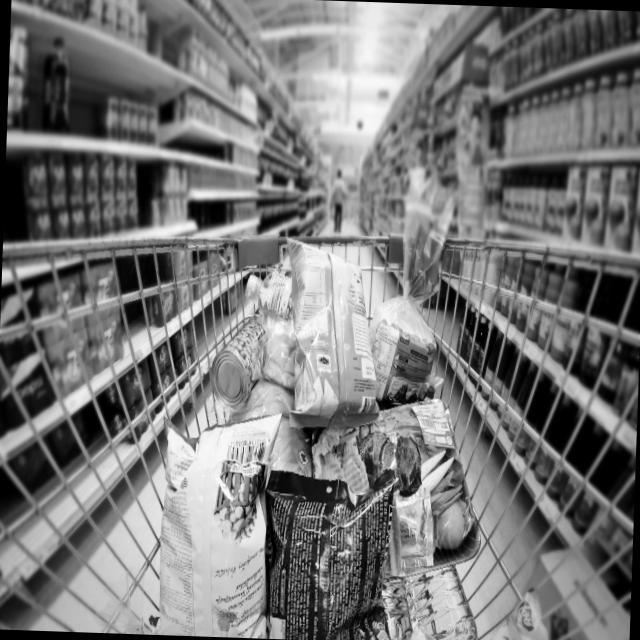bread: (364, 198, 456, 402)
oil: (240, 252, 307, 318)
